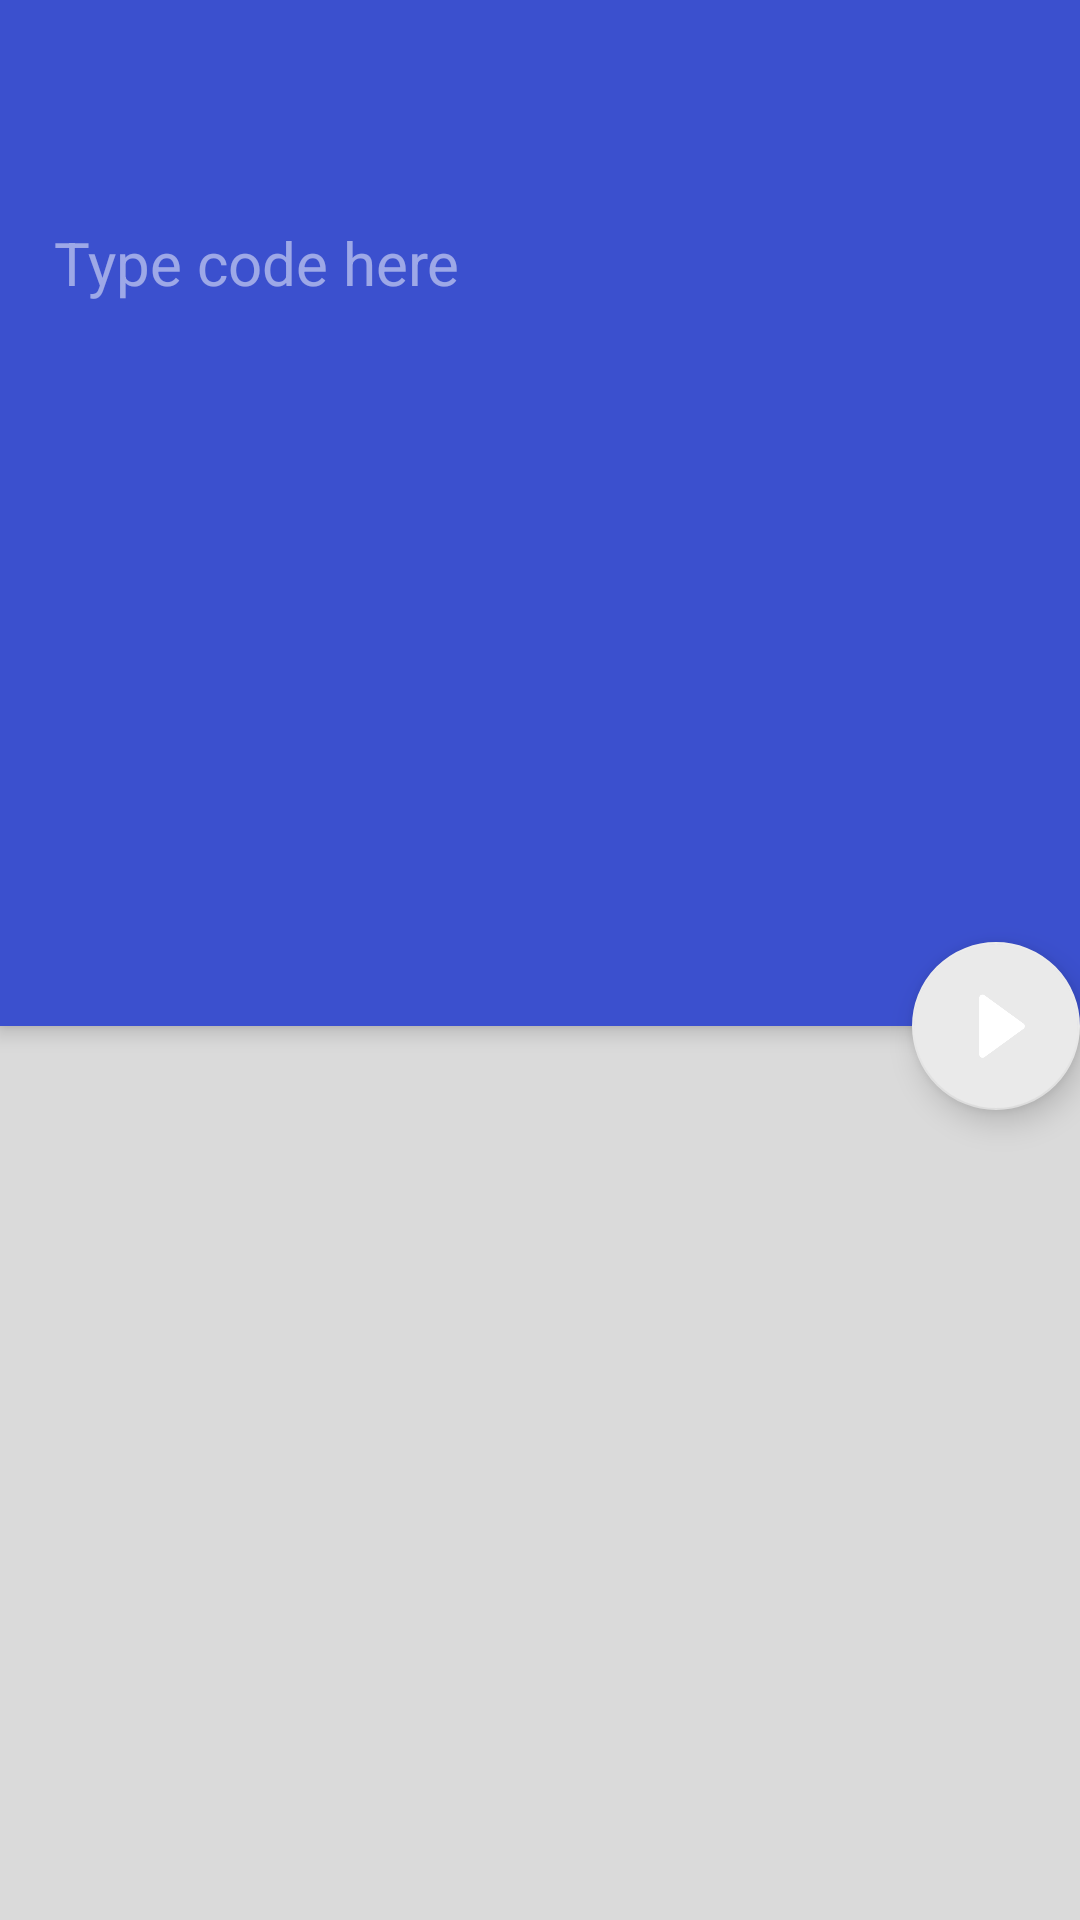

Where to tap for icons on this 1080px x 1920px app screen, as [x,y]:
run: [996,1026]
